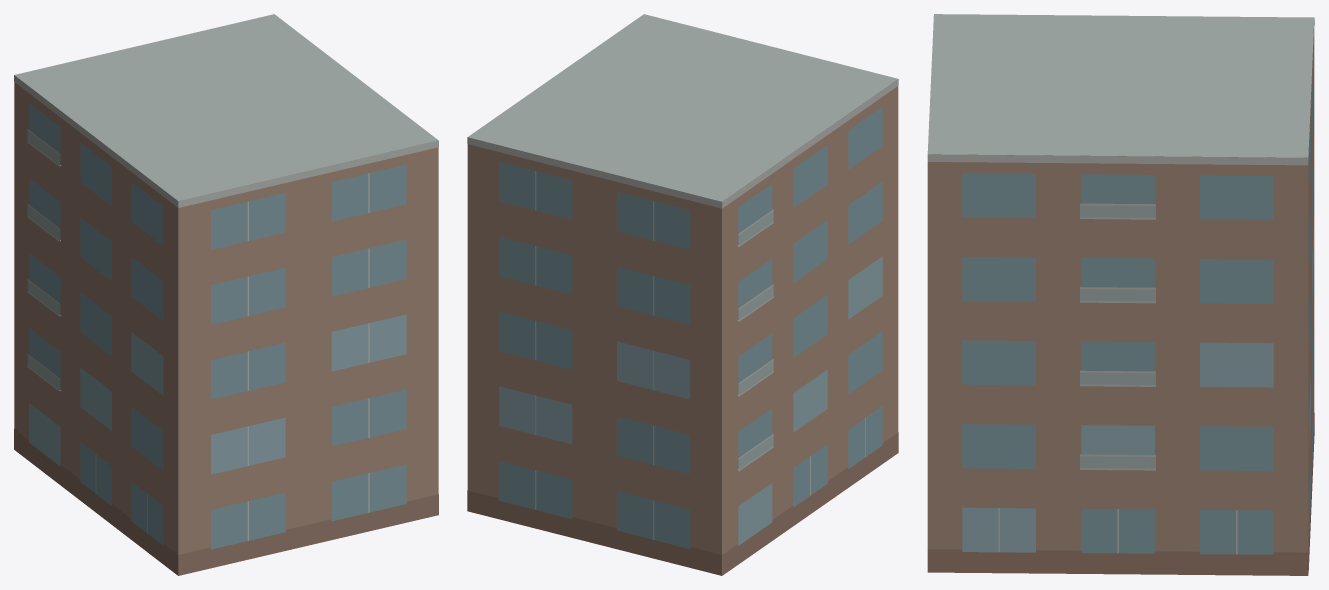
The model's file is survey-upis-32725777.glb.
The picture shows the model from 3 angles, left to right: view 1: azimuth 30°, elevation 25°; view 2: azimuth 150°, elevation 25°; view 3: azimuth 270°, elevation 25°; orthographic projection. The views are drawn at different scales.
Parts seen in each view (by area): view 1: survey-upis-32725777.tmp; view 2: survey-upis-32725777.tmp; view 3: survey-upis-32725777.tmp.
Boxes of the visible parts, left/top/right/bottom form: survey-upis-32725777.tmp: left=14, top=14, right=438, bottom=575; survey-upis-32725777.tmp: left=467, top=14, right=898, bottom=575; survey-upis-32725777.tmp: left=927, top=14, right=1314, bottom=575.
Size of the model in its own units: 9.89 by 13.4 by 11.24.
